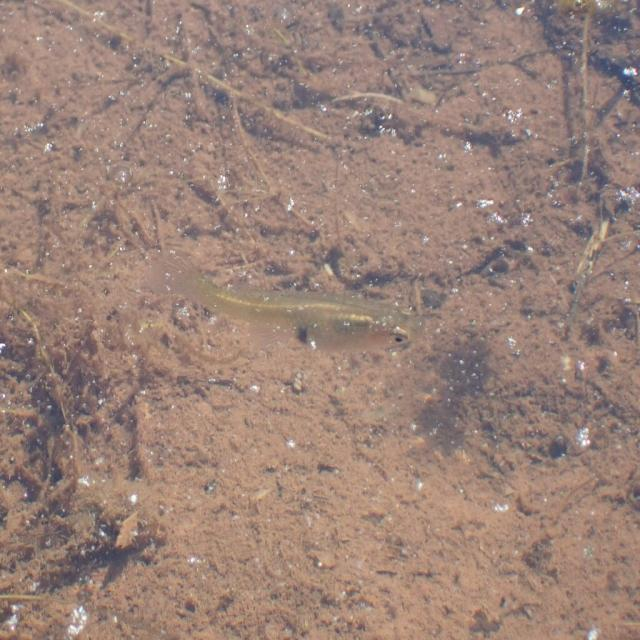Sivrisinek Baligi: (154, 250, 422, 371)
